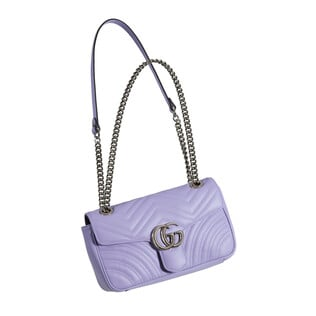Gucci: (71, 170, 247, 283), (146, 222, 195, 253)
